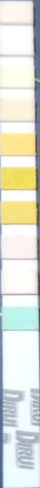color 1: (1, 2, 31, 22)
color 10: (2, 310, 36, 327)
color 2: (2, 35, 32, 54)
color 3: (1, 69, 31, 85)
color 4: (1, 102, 32, 119)
color 5: (2, 135, 33, 154)
color 6: (2, 169, 34, 187)
color 7: (2, 203, 34, 221)
color 8: (2, 239, 35, 256)
color 9: (4, 273, 35, 292)
